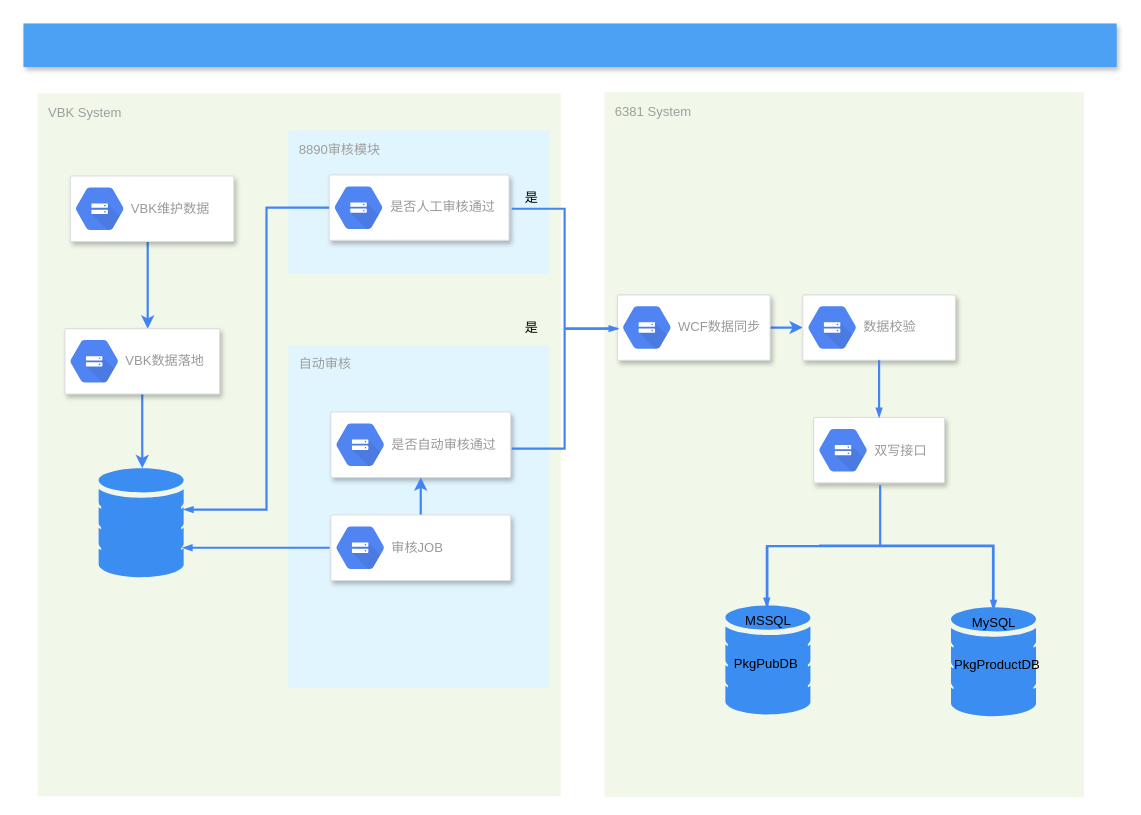
Some shapes in this 1141 by 815 pixel diagram are drawn without their labels. The shapes that lost their labels are listed below. From the top down, each one's centre as x and y in pixels, then its label:
At pixel 571 46: "原VBK数据审核及同步流程".
At pixel 140 522: "PkgInputDB".
